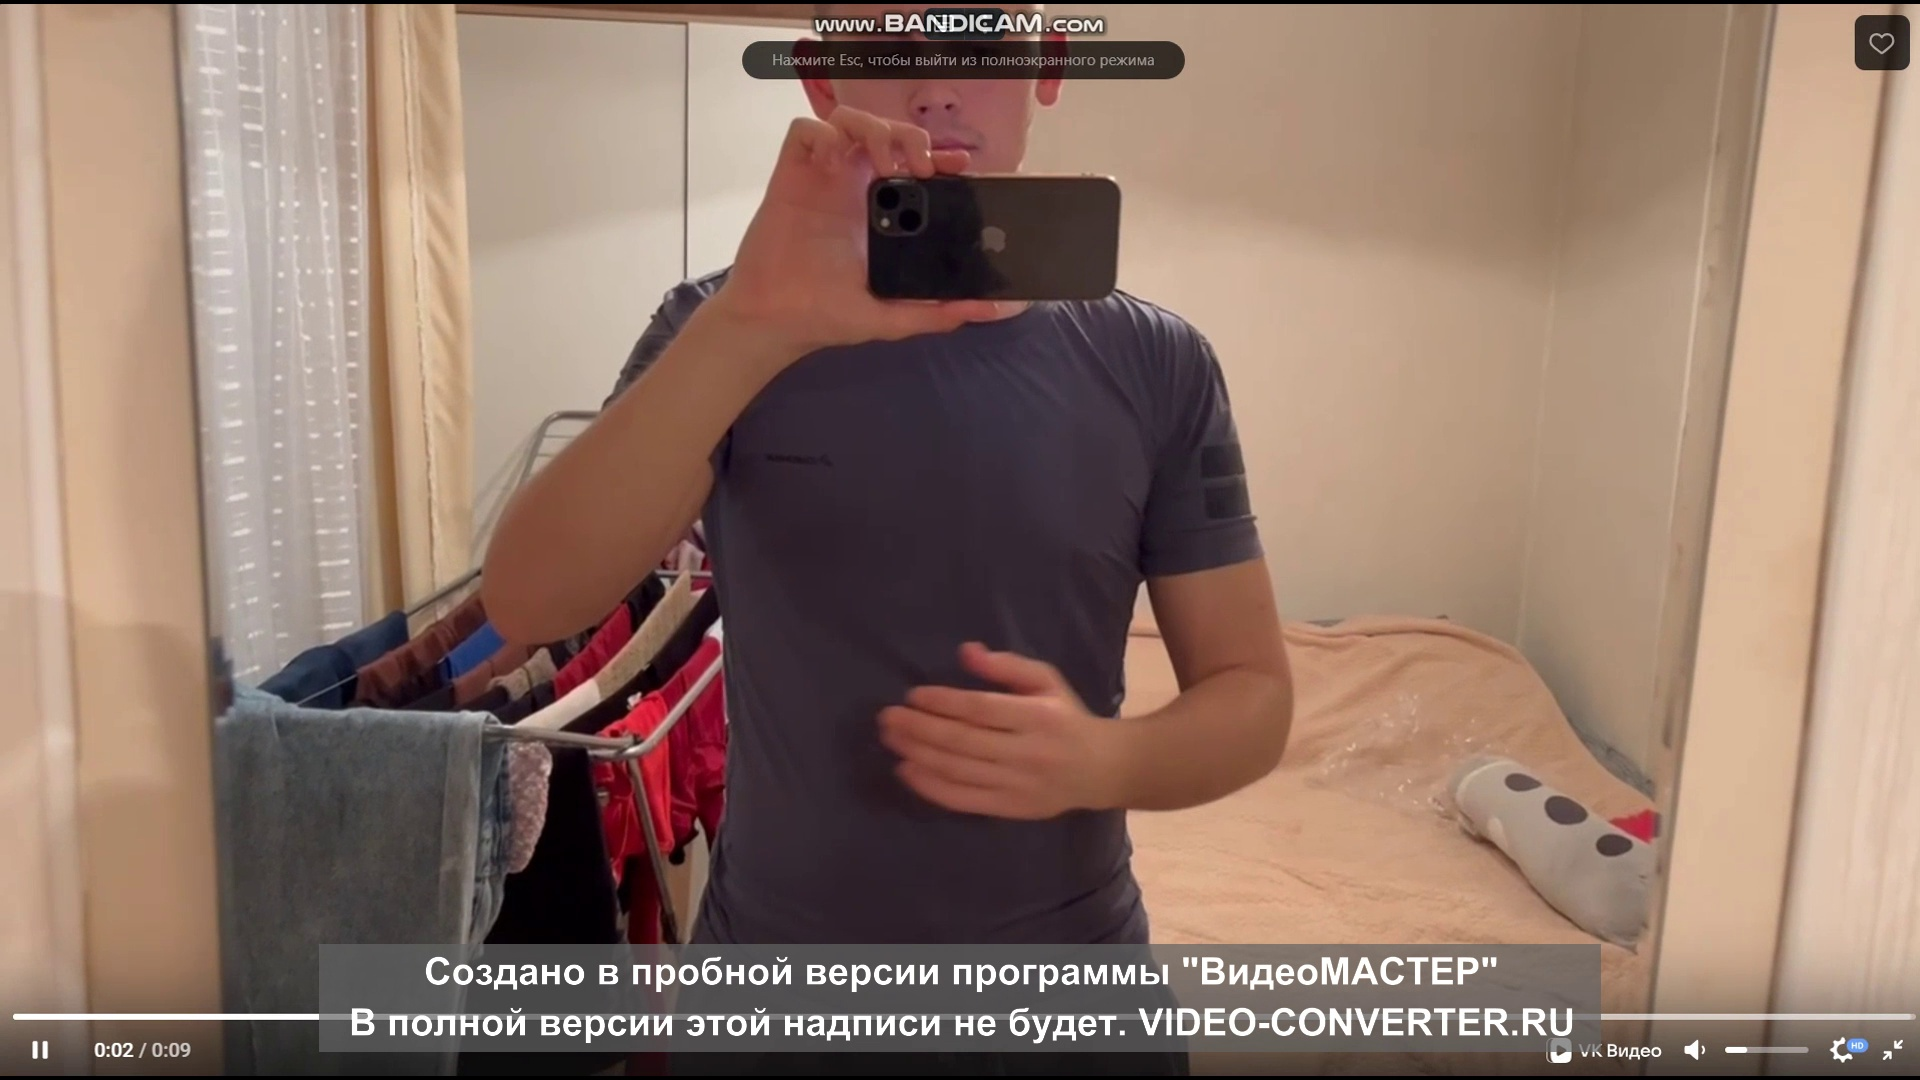Кисть: (874, 636, 1114, 822)
